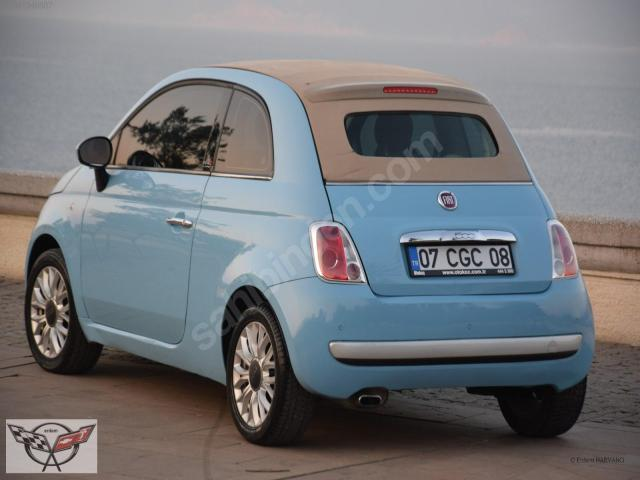plaka: (406, 244, 515, 276)
